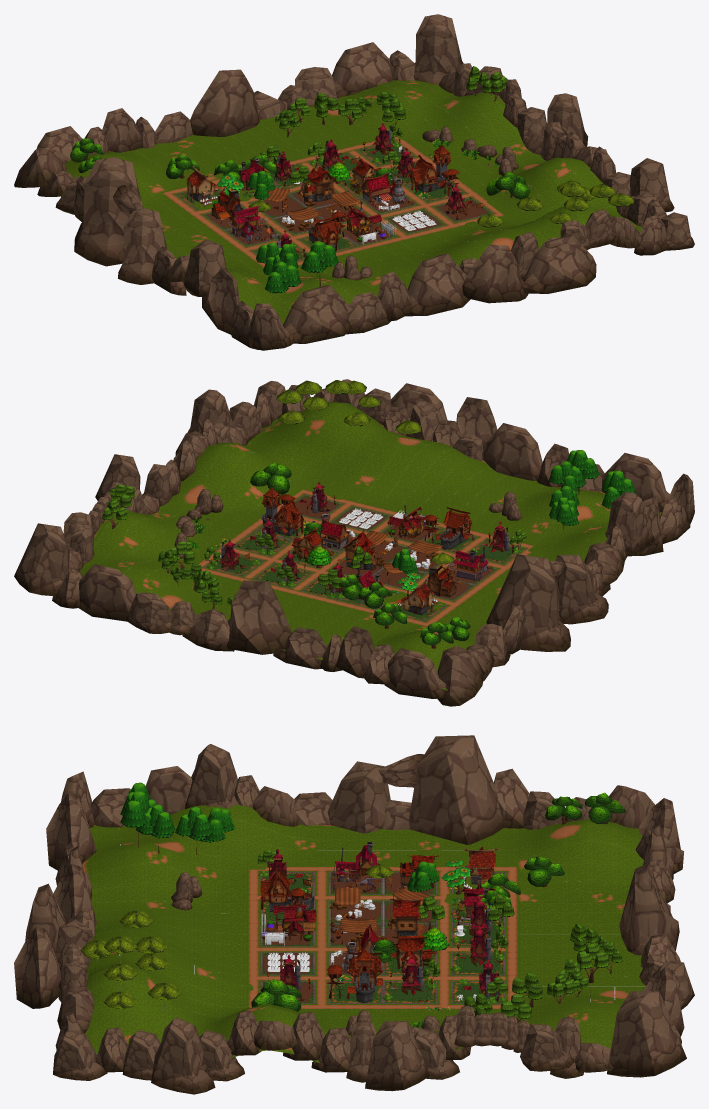
3 renders of one model, top to bottom at view 1: azimuth 30°, elevation 25°; view 2: azimuth 150°, elevation 25°; view 3: azimuth 270°, elevation 25°, orthographic. The views are drawn at different scales.
Visible parts, largest first — view 1: Scena; view 2: Scena, Toranj, Sargarepe; view 3: Scena, Toranj.
Part boxes in pixels (<box>): Scena: <box>14,14,694,350</box>; Scena: <box>14,379,694,706</box>; Toranj: <box>261,487,280,532</box>; Sargarepe: <box>339,508,382,528</box>; Scena: <box>14,735,694,1094</box>; Toranj: <box>353,948,375,1003</box>.
Bounding box in the file's own units: 0.3212 × 0.0561 × 0.314.
3 materials, 3 textured.
